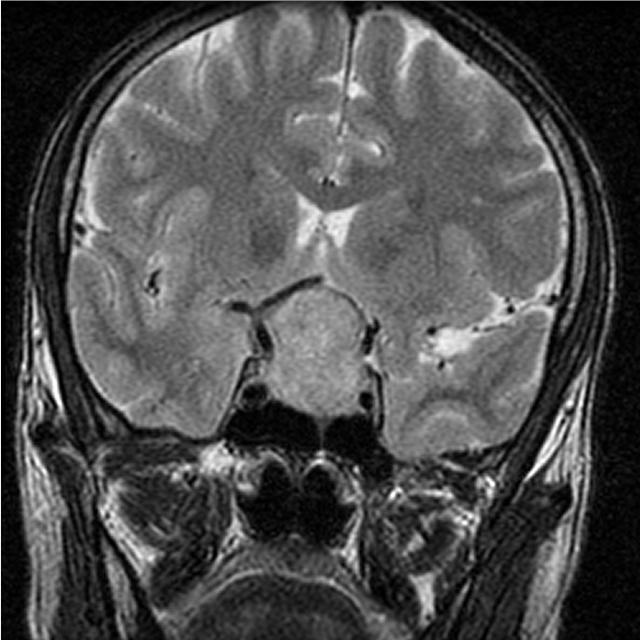brain_tumor: (262, 291, 369, 425)
